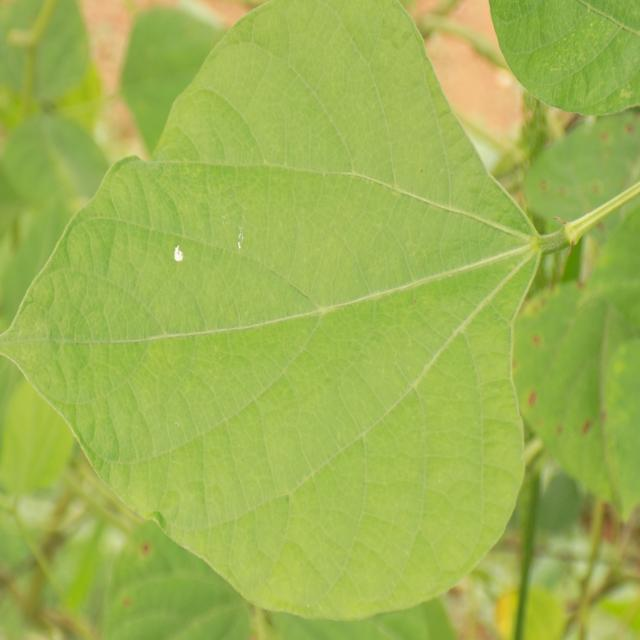Dolicos bean_cercospora leaf spot: (486, 276, 640, 528)
Dolicos bean_healthy: (0, 0, 533, 621)
